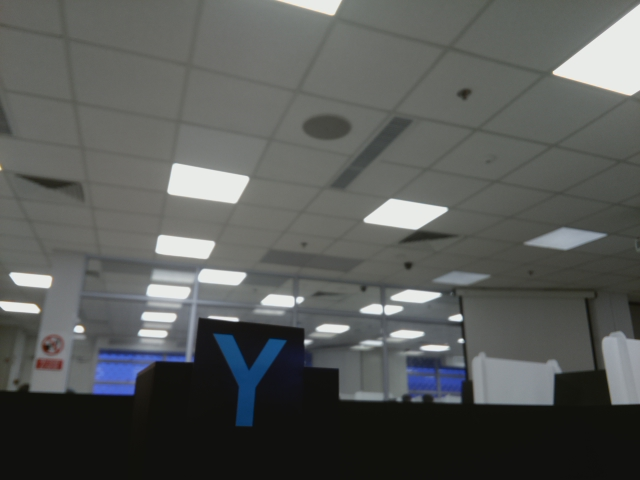y: (207, 326, 293, 438)
